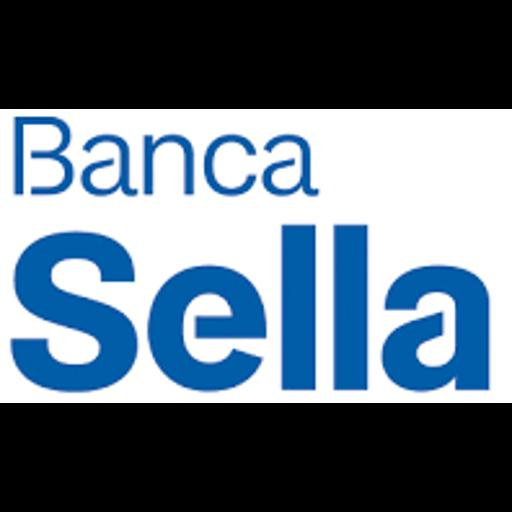Banca Sella: (0, 109, 512, 403)
